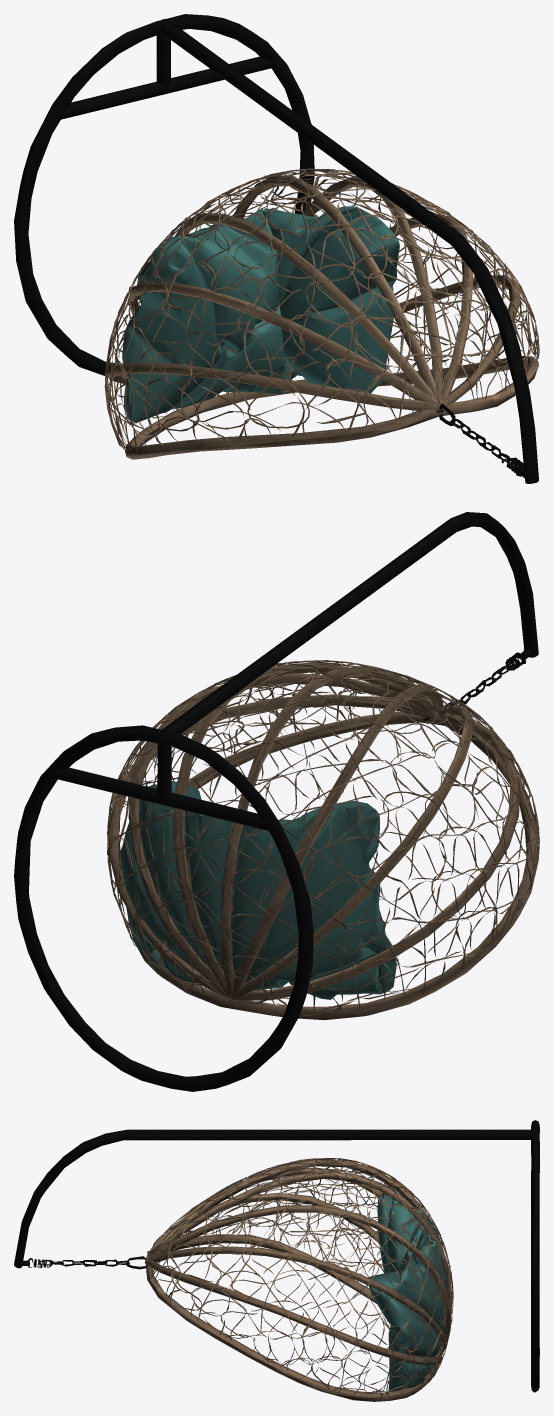
Rendered from raw_model.glb.
The picture shows the model from 3 angles, top to bottom: view 1: azimuth 30°, elevation 25°; view 2: azimuth 150°, elevation 25°; view 3: azimuth 270°, elevation 25°; orthographic projection. The views are drawn at different scales.
Visible parts, largest first — view 1: raw_model.026; view 2: raw_model.026; view 3: raw_model.026.
Boxes of the visible parts, x1,y1,x2,y2 form: raw_model.026: (14, 14, 539, 483); raw_model.026: (14, 512, 539, 1091); raw_model.026: (14, 1120, 539, 1401).
Size of the model in its own units: 1.15 by 1.01 by 1.92.
1 material, 1 textured.
